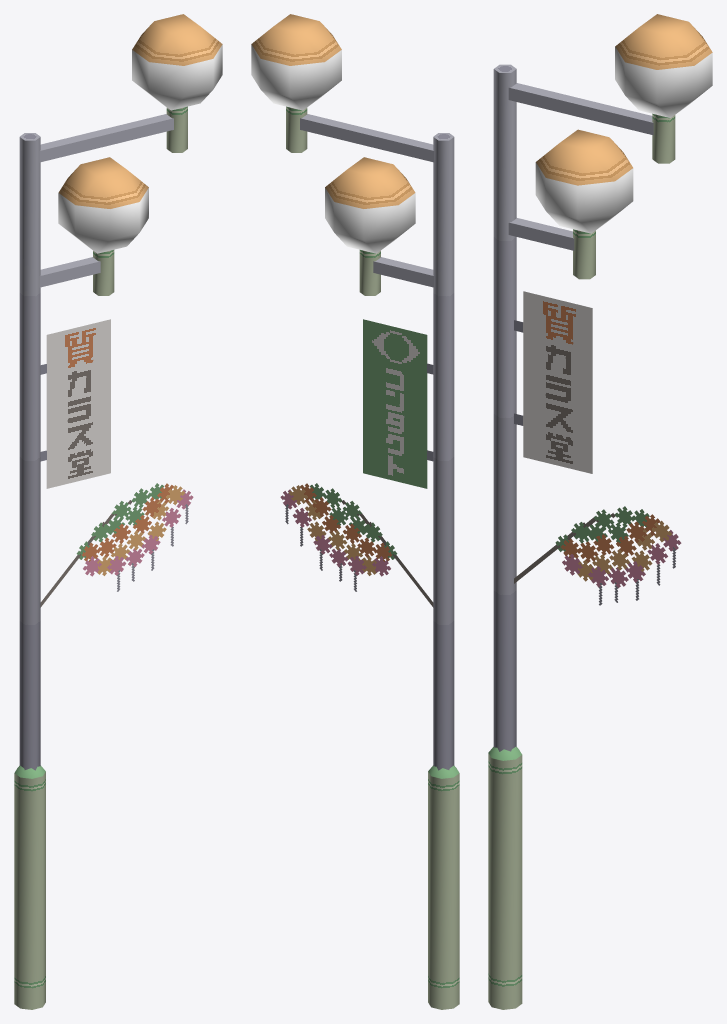
File: 0279_Lamp_Post.glb
3 views of the same model, side by side, from view 1: azimuth 30°, elevation 25°; view 2: azimuth 150°, elevation 25°; view 3: azimuth 330°, elevation 25° (orthographic). The views are drawn at different scales.
Visible parts, largest first — view 1: part_0; view 2: part_0; view 3: part_0.
Boxes of the visible parts, box(x1,y1,x2,y2) form: part_0: box(14, 14, 222, 1009); part_0: box(251, 14, 459, 1009); part_0: box(488, 14, 712, 1009).
Bounding box in the file's own units: 1.07 × 4.9 × 0.4.
Materials: 1 (1 with a texture image).
